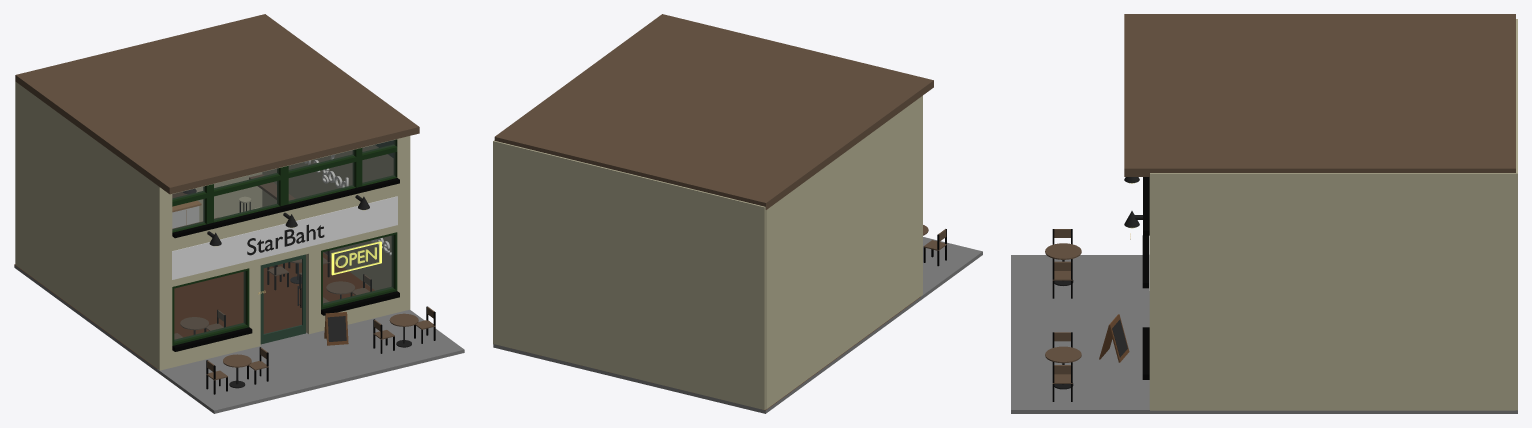
The model's file is Cafe.fbx.
3 renders of one model, left to right at view 1: azimuth 30°, elevation 25°; view 2: azimuth 150°, elevation 25°; view 3: azimuth 270°, elevation 25°, orthographic. The views are drawn at different scales.
Parts seen in each view (by area): view 1: CafeBuilding, CafeDoor, ChalkSign, OpenNeon, BackBar, Table, Table.001; view 2: CafeBuilding; view 3: CafeBuilding, ChalkSign, Table, Table.001, Chair.001, Chair.003.
Boxes of the visible parts, x1,y1,x2,y2 form: CafeBuilding: [14, 14, 464, 413]; CafeDoor: [260, 254, 305, 344]; ChalkSign: [324, 312, 348, 345]; OpenNeon: [331, 241, 381, 275]; BackBar: [172, 200, 201, 228]; Table: [223, 354, 251, 388]; Table.001: [389, 313, 418, 347]; CafeBuilding: [493, 14, 982, 413]; CafeBuilding: [1011, 14, 1517, 413]; ChalkSign: [1099, 314, 1129, 362]; Table: [1045, 243, 1081, 285]; Table.001: [1045, 346, 1081, 389]; Chair.001: [1052, 261, 1072, 298]; Chair.003: [1052, 365, 1072, 401].
Bounding box in the file's own units: 8.04 × 5.92 × 11.09.
